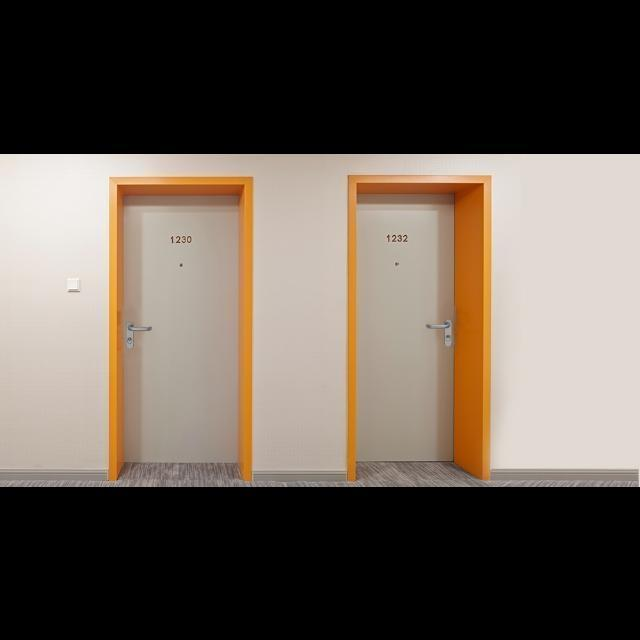door: (121, 191, 240, 465), (354, 191, 455, 463)
